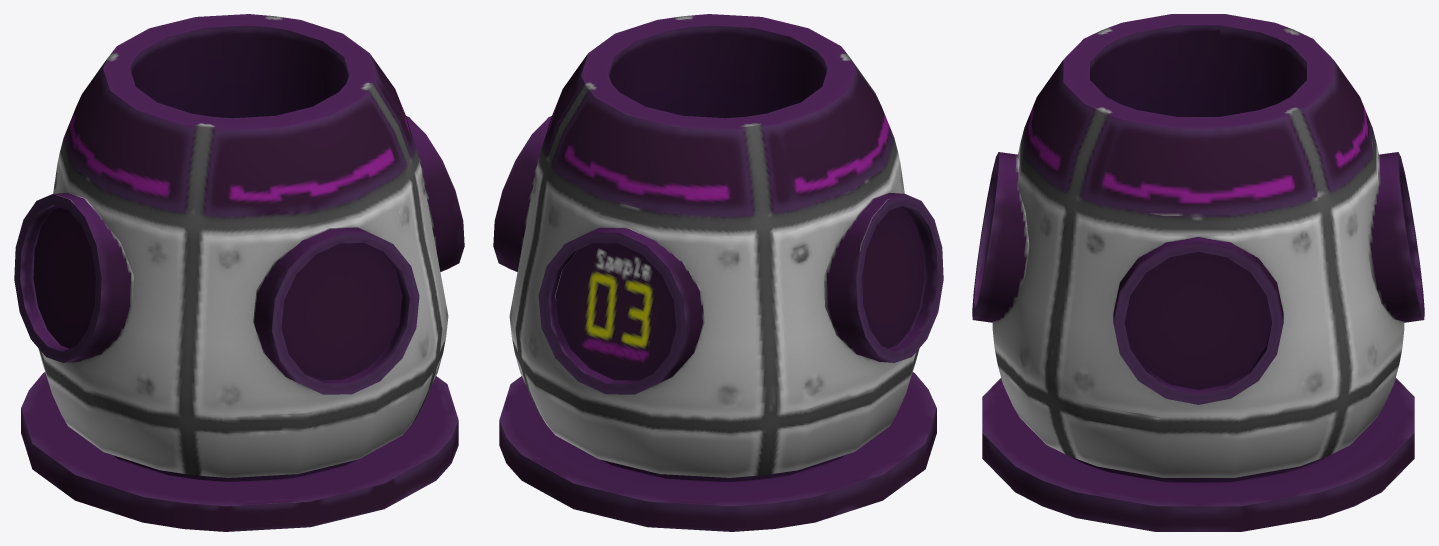
File: Container 3.fbx
3 renders of one model, left to right at view 1: azimuth 30°, elevation 25°; view 2: azimuth 150°, elevation 25°; view 3: azimuth 270°, elevation 25°, orthographic.
Visible parts, largest first — view 1: C3_LP0; view 2: C3_LP0; view 3: C3_LP0.
Boxes of the visible parts, bbox=[...] form: C3_LP0: bbox=[14, 14, 464, 531]; C3_LP0: bbox=[493, 14, 943, 531]; C3_LP0: bbox=[972, 14, 1424, 531].
Bounding box in the file's own units: 280 × 254 × 283.
